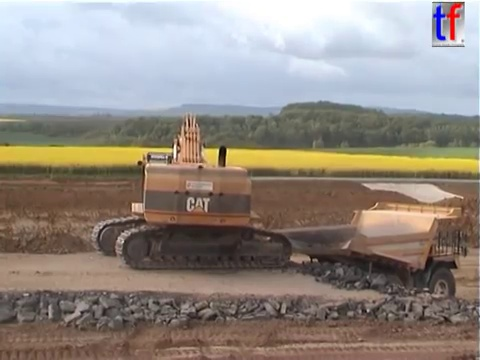excavator: (89, 110, 294, 271)
truck: (267, 200, 469, 316)
